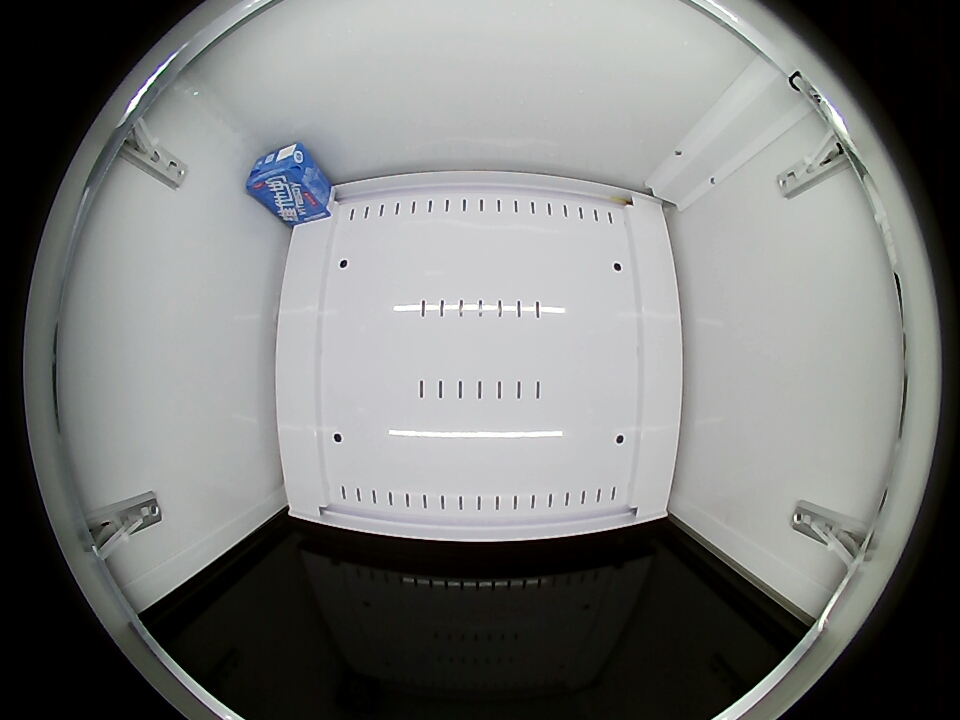weitanai: (245, 143, 315, 202)
